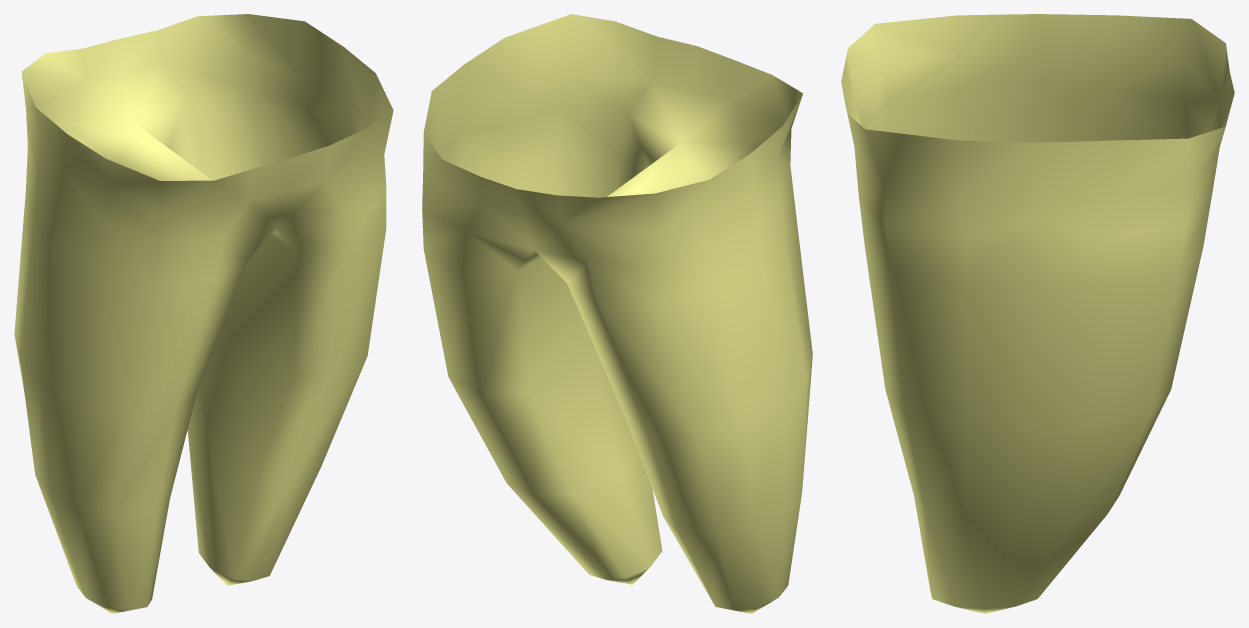
The model's file is D47R_Raiz.obj.
3 renders of one model, left to right at view 1: azimuth 30°, elevation 25°; view 2: azimuth 150°, elevation 25°; view 3: azimuth 270°, elevation 25°, orthographic. The views are drawn at different scales.
Parts seen in each view (by area): view 1: D47R_Raiz; view 2: D47R_Raiz; view 3: D47R_Raiz.
Boxes of the visible parts, x1,y1,x2,y2 form: D47R_Raiz: (14, 14, 393, 613); D47R_Raiz: (422, 14, 812, 613); D47R_Raiz: (841, 14, 1234, 613).
Bounding box in the file's own units: 9.11 × 13.54 × 8.81.
